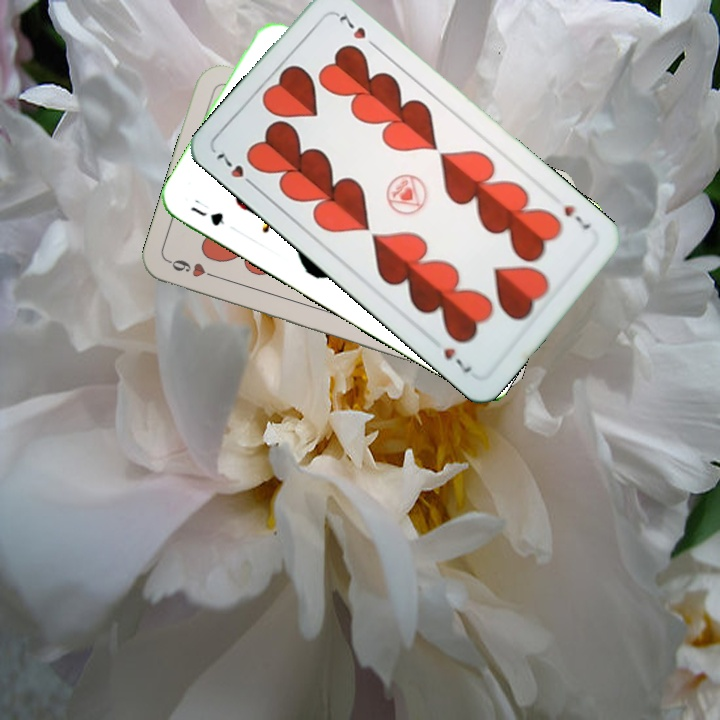GU: (186, 202, 228, 229)
H7: (211, 149, 260, 192), (560, 201, 595, 233)
H9: (165, 255, 222, 282)
